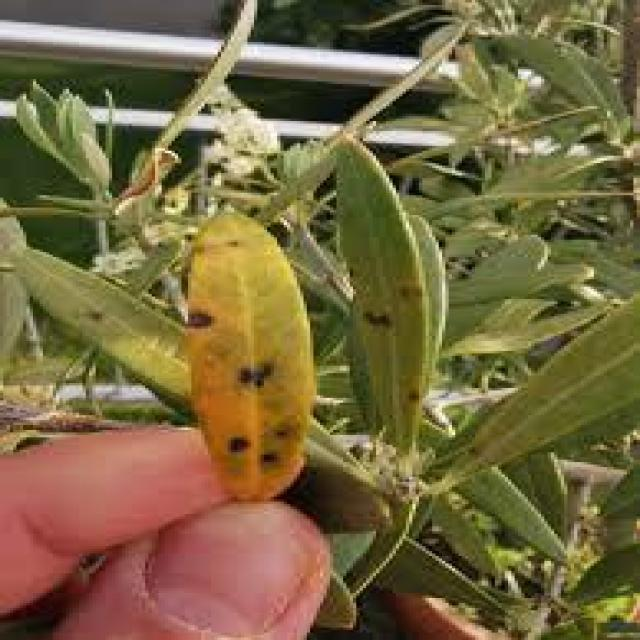OlivePeacockSpot: (184, 212, 314, 500), (340, 138, 442, 470), (7, 242, 188, 408)
